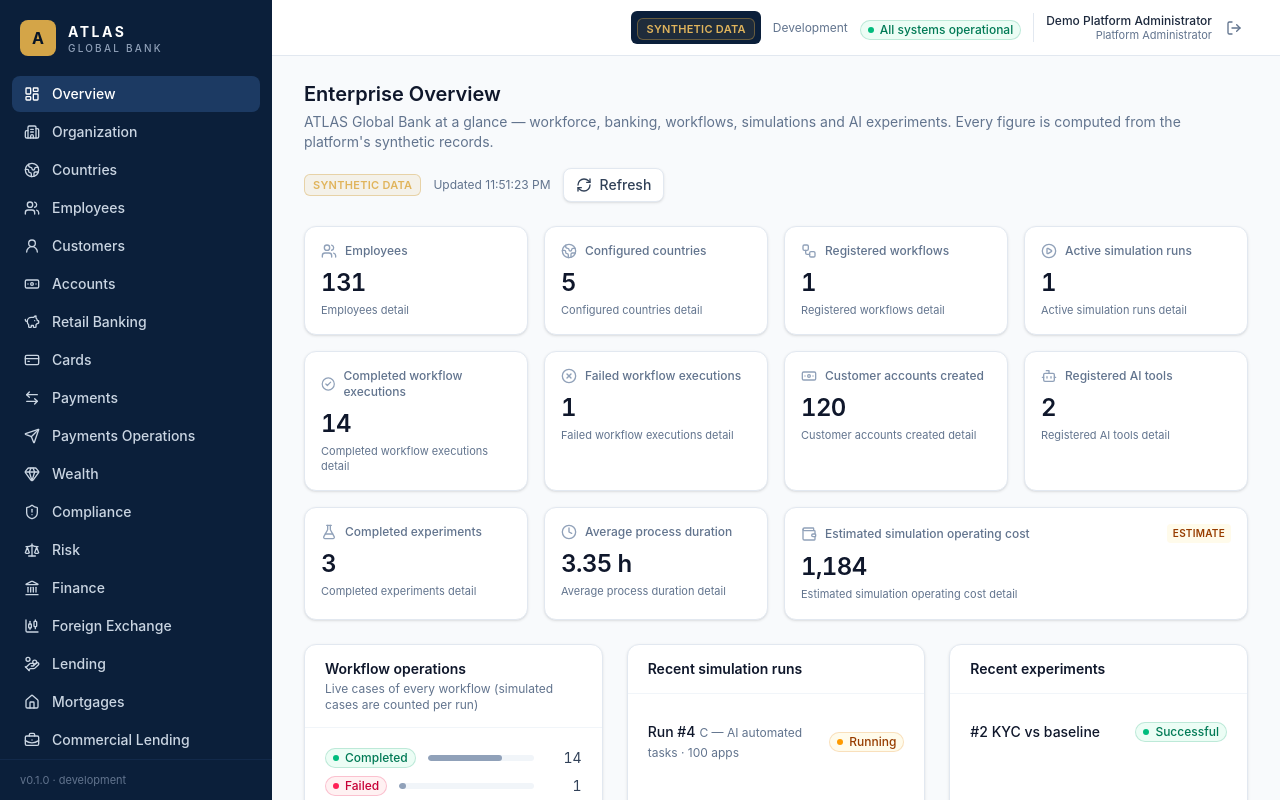
Test: Authentication › signs out and clears the stored session
Click the button named "Sign out" at (1234, 28), box [1220,14,1248,42]
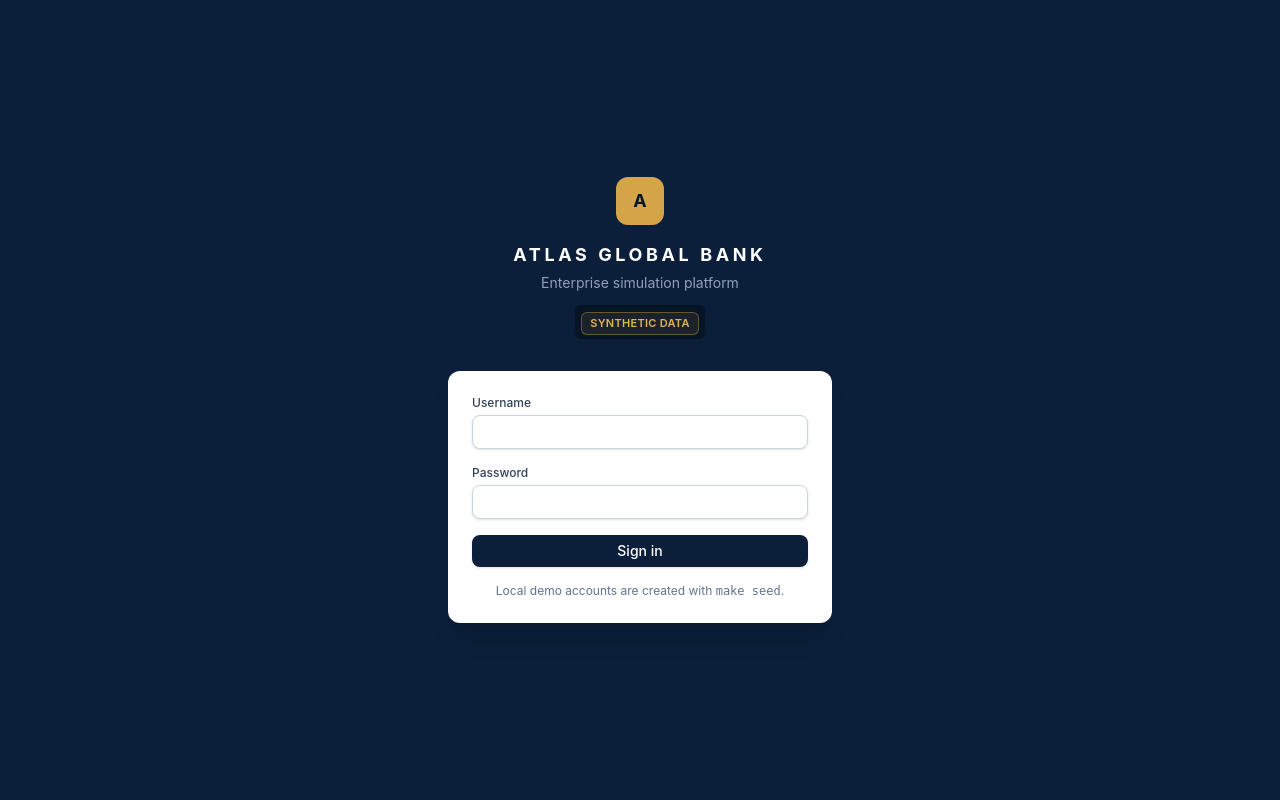
Now the form "Sign in" is shown, box [448,371,832,623]
